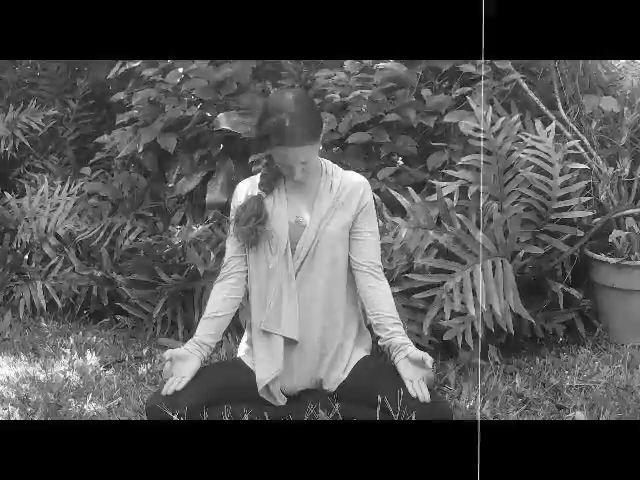person: (145, 87, 453, 422)
